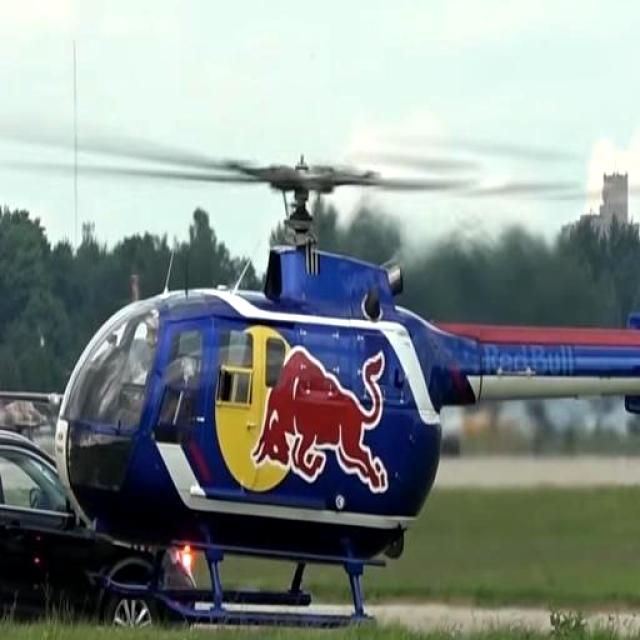drone: (55, 138, 640, 625)
